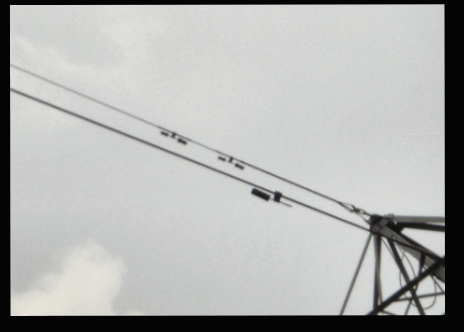damper: (158, 128, 189, 145), (216, 154, 246, 171)
damper_defect: (248, 185, 294, 208)
